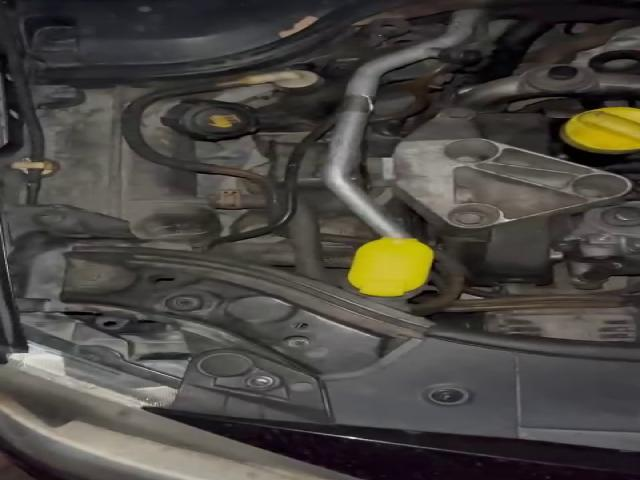antifreeze_tank: (38, 87, 223, 245), (144, 98, 256, 160)
